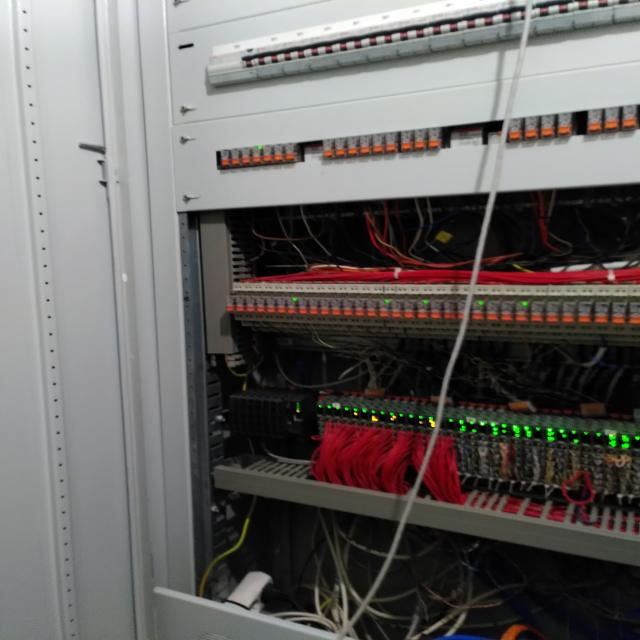Dimmer: (449, 127, 483, 146), (303, 144, 322, 158)
Leitungsschutzschalter: (211, 39, 258, 82), (430, 1, 470, 46), (397, 6, 432, 55), (339, 17, 370, 64), (372, 10, 399, 60), (256, 37, 286, 79), (311, 25, 340, 68), (286, 26, 310, 74)
Relais: (604, 108, 619, 132), (622, 106, 636, 130), (587, 110, 602, 132), (558, 114, 572, 136), (508, 119, 522, 141), (525, 117, 538, 139), (595, 303, 609, 323), (546, 302, 560, 322), (486, 300, 500, 320), (542, 116, 554, 138), (400, 131, 413, 151), (385, 132, 398, 152), (612, 303, 625, 323), (563, 303, 576, 323), (531, 301, 543, 322), (415, 129, 427, 149), (428, 128, 440, 148), (472, 300, 484, 320), (579, 302, 591, 322), (502, 301, 514, 321), (359, 136, 372, 154), (629, 302, 640, 323), (516, 302, 528, 321), (334, 139, 347, 156), (262, 144, 274, 162), (372, 134, 384, 152), (430, 300, 442, 318), (457, 300, 469, 318), (322, 140, 334, 157), (444, 301, 456, 318), (404, 300, 415, 318), (391, 300, 402, 318), (366, 300, 377, 318), (284, 144, 296, 160), (354, 298, 364, 317), (379, 300, 390, 317), (348, 136, 358, 154), (286, 296, 296, 314), (320, 297, 330, 315), (230, 149, 241, 165), (309, 298, 319, 315), (234, 297, 245, 312), (220, 150, 230, 166), (240, 148, 250, 164), (252, 146, 262, 162), (246, 296, 256, 312), (266, 296, 276, 312), (298, 298, 308, 314), (418, 302, 428, 318), (274, 145, 283, 161), (332, 298, 341, 314), (226, 297, 235, 312), (256, 297, 265, 312), (277, 298, 286, 313), (344, 299, 352, 315)
Schaltkasten: (68, 0, 640, 640)
